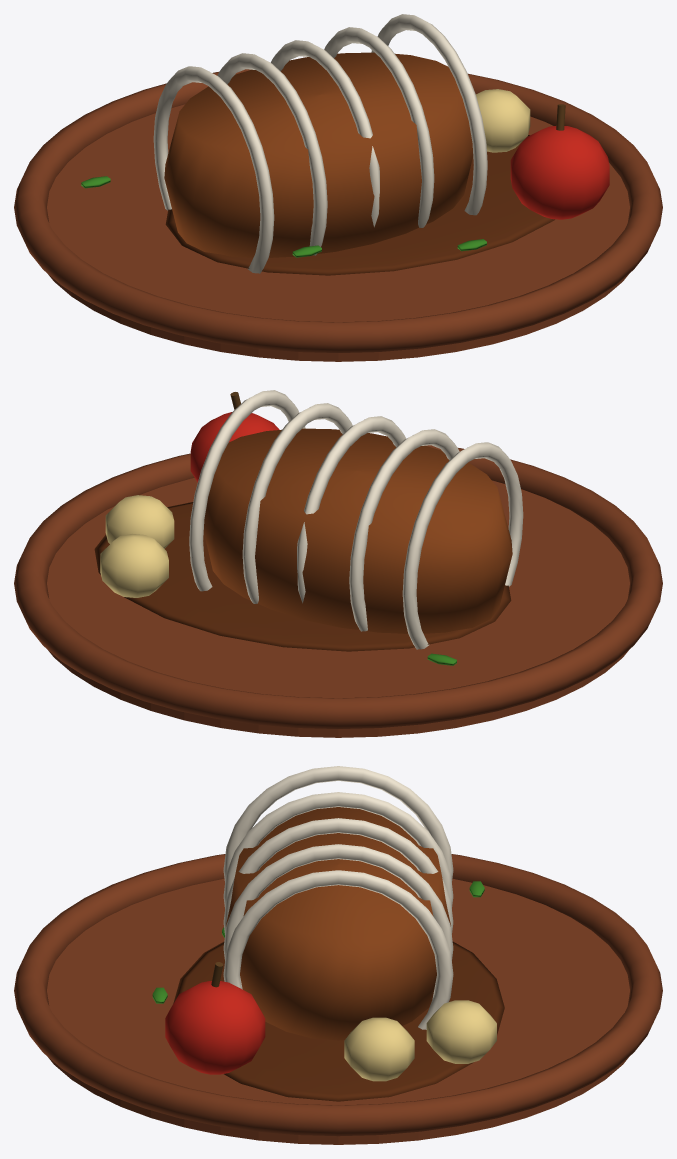
File: wildschweinbraten.glb
3 renders of one model, top to bottom at view 1: azimuth 30°, elevation 25°; view 2: azimuth 150°, elevation 25°; view 3: azimuth 270°, elevation 25°, orthographic.
Visible parts, largest first — view 1: Cylinder, braten, Torus, Sphere, Sphere.001, Torus.001, Torus.005, Torus.002, Torus.004, Torus.003, Sphere.003; view 2: Cylinder, braten, Torus, Sphere, Torus.001, Torus.005, Torus.002, Sphere.002, Torus.004, Torus.003, Sphere.003, Sphere.001; view 3: Cylinder, Torus, braten, Sphere, Sphere.001, Torus.005, Torus.001, Torus.004, Torus.002, Torus.003, Sphere.003, Sphere.002.
Boxes of the visible parts, left/top/right/bottom form: Cylinder: left=47, top=104, right=629, bottom=361; braten: left=164, top=52, right=473, bottom=257; Torus: left=14, top=69, right=662, bottom=352; Sphere: left=165, top=135, right=554, bottom=275; Sphere.001: left=510, top=126, right=609, bottom=219; Torus.001: left=153, top=66, right=274, bottom=273; Torus.005: left=371, top=14, right=487, bottom=215; Torus.002: left=217, top=53, right=327, bottom=255; Torus.004: left=324, top=27, right=434, bottom=227; Torus.003: left=271, top=40, right=379, bottom=227; Sphere.003: left=476, top=89, right=530, bottom=152; Cylinder: left=47, top=478, right=629, bottom=737; braten: left=203, top=428, right=512, bottom=633; Torus: left=14, top=445, right=662, bottom=728; Sphere: left=94, top=502, right=511, bottom=651; Torus.001: left=402, top=442, right=523, bottom=649; Torus.005: left=189, top=390, right=305, bottom=591; Torus.002: left=349, top=429, right=459, bottom=631; Sphere.002: left=100, top=534, right=168, bottom=597; Torus.004: left=242, top=403, right=352, bottom=603; Torus.003: left=297, top=416, right=405, bottom=603; Sphere.003: left=105, top=495, right=174, bottom=548; Sphere.001: left=190, top=412, right=279, bottom=482; Cylinder: left=47, top=878, right=629, bottom=1144; Torus: left=14, top=854, right=662, bottom=1136; braten: left=226, top=807, right=450, bottom=1040; Sphere: left=173, top=941, right=504, bottom=1101; Sphere.001: left=165, top=981, right=265, bottom=1074; Torus.005: left=223, top=870, right=453, bottom=1029; Torus.001: left=223, top=766, right=453, bottom=882; Torus.004: left=223, top=844, right=453, bottom=998; Torus.002: left=223, top=792, right=453, bottom=908; Torus.003: left=223, top=818, right=453, bottom=934; Sphere.003: left=344, top=1017, right=414, bottom=1081; Sphere.002: left=426, top=1000, right=496, bottom=1063.
Bounding box in the file's own units: 0.316 × 0.112 × 0.316.
